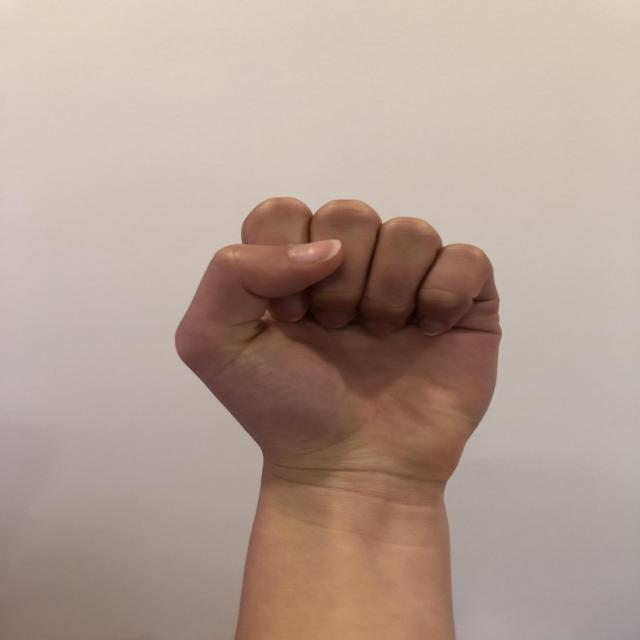S: (168, 194, 510, 482)
